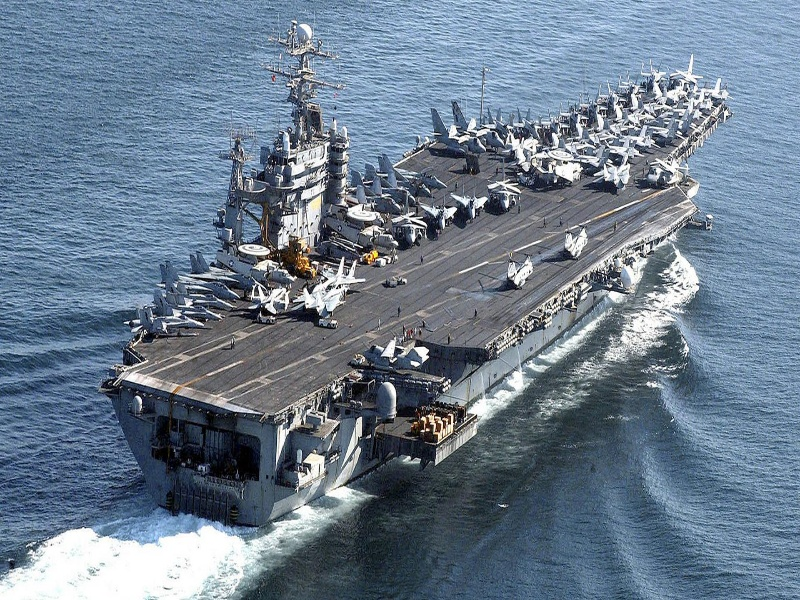carrier: (98, 31, 724, 512)
